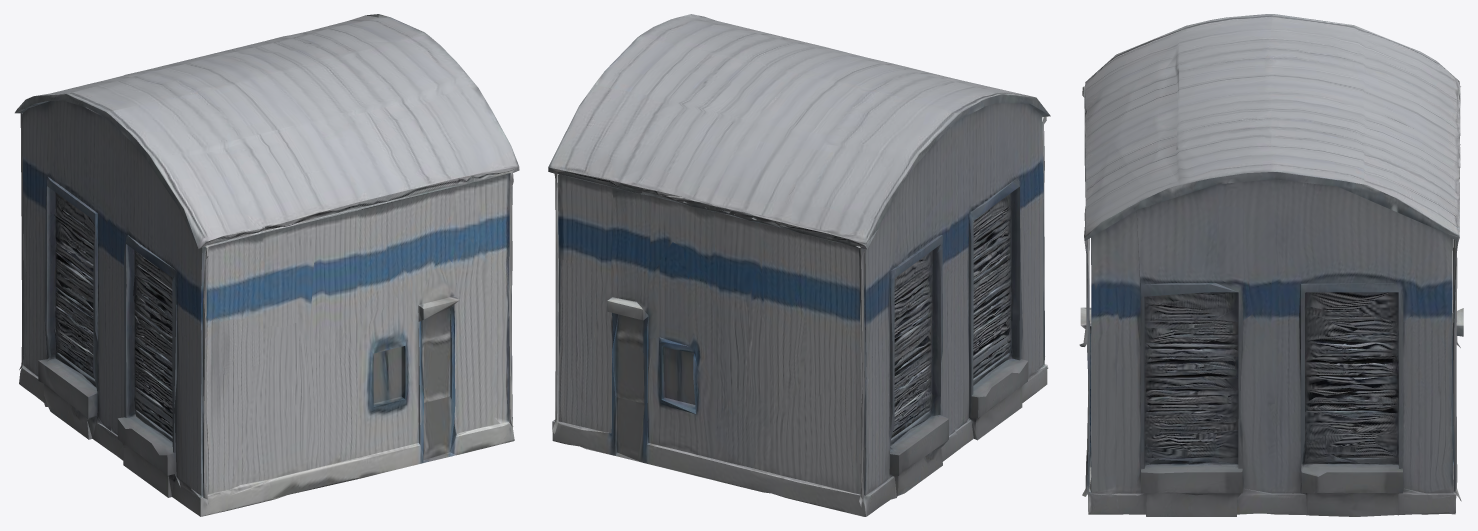
File: empresa_f1.glb
3 renders of one model, left to right at view 1: azimuth 30°, elevation 25°; view 2: azimuth 150°, elevation 25°; view 3: azimuth 270°, elevation 25°, orthographic.
Visible parts, largest first — view 1: tripo_node_56ec586a-9e34-45a5-881c-61e70b4a2d85; view 2: tripo_node_56ec586a-9e34-45a5-881c-61e70b4a2d85; view 3: tripo_node_56ec586a-9e34-45a5-881c-61e70b4a2d85.
Boxes of the visible parts, left/top/right/bottom form: tripo_node_56ec586a-9e34-45a5-881c-61e70b4a2d85: left=15, top=14, right=519, bottom=516; tripo_node_56ec586a-9e34-45a5-881c-61e70b4a2d85: left=548, top=14, right=1050, bottom=516; tripo_node_56ec586a-9e34-45a5-881c-61e70b4a2d85: left=1079, top=14, right=1463, bottom=516.
Size of the model in its own units: 0.9999 by 0.9983 by 1.
Materials: 1 (1 with a texture image).
